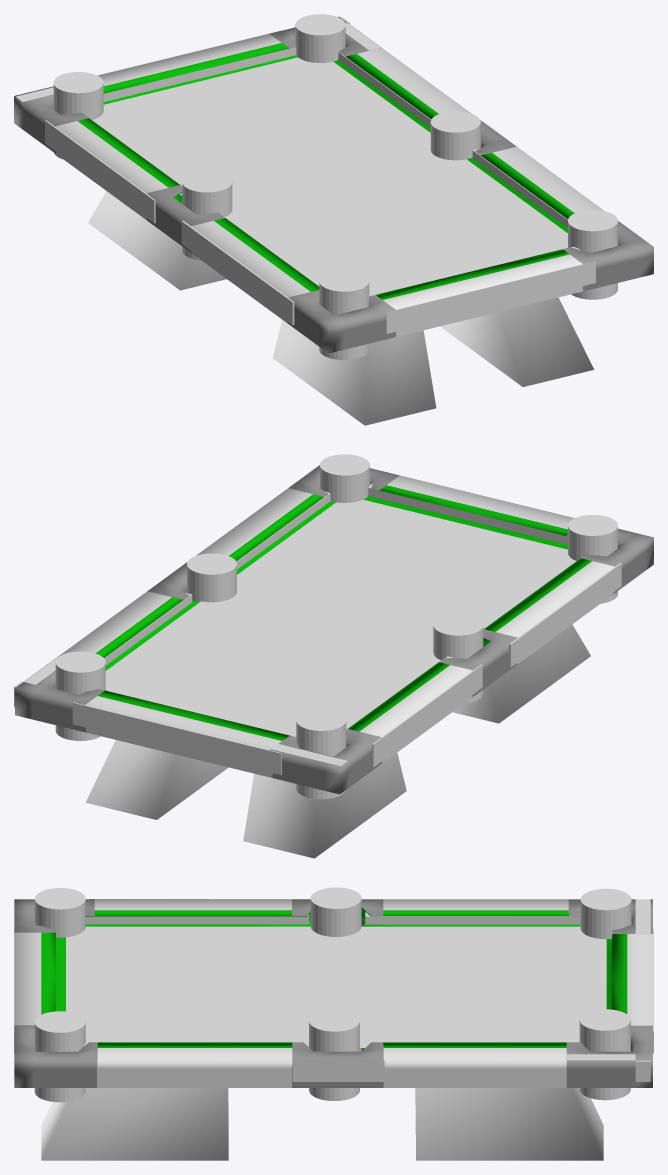
The model's file is BilliardMap.glb.
3 renders of one model, top to bottom at view 1: azimuth 30°, elevation 25°; view 2: azimuth 150°, elevation 25°; view 3: azimuth 270°, elevation 25°, orthographic.
Visible parts, largest first — view 1: main, Plane.001, box5, box3, box4, hole5, hole4, hole1, hole3, hole6, hole2, box6 (+2 smaller); view 2: main, Plane.001, box6, box3, box4, hole2, hole3, hole1, hole4, hole6, hole5, box5 (+3 smaller); view 3: Plane.001, main, hole4, hole1, hole3, hole6, hole2, hole5, box3, box12, box4, box8 (+1 smaller).
Boxes of the visible parts, left/top/right/bottom form: main: left=92, top=57, right=567, bottom=296; Plane.001: left=14, top=16, right=653, bottom=425; box5: left=386, top=246, right=595, bottom=333; box3: left=181, top=220, right=294, bottom=325; box4: left=45, top=120, right=182, bottom=223; hole5: left=319, top=270, right=369, bottom=360; hole4: left=568, top=210, right=617, bottom=299; hole1: left=430, top=111, right=480, bottom=160; hole3: left=295, top=14, right=345, bottom=62; hole6: left=182, top=171, right=232, bottom=260; hole2: left=53, top=72, right=103, bottom=159; box6: left=97, top=30, right=296, bottom=101; main: left=105, top=499, right=576, bottom=736; Plane.001: left=15, top=465, right=653, bottom=858; box6: left=72, top=702, right=281, bottom=775; box3: left=509, top=563, right=621, bottom=667; box4: left=346, top=656, right=482, bottom=767; hole2: left=296, top=709, right=346, bottom=799; hole3: left=55, top=651, right=105, bottom=740; hole1: left=187, top=553, right=236, bottom=602; hole4: left=320, top=454, right=369, bottom=502; hole6: left=433, top=614, right=483, bottom=703; hole5: left=568, top=515, right=617, bottom=603; box5: left=368, top=483, right=567, bottom=544; Plane.001: left=14, top=899, right=652, bottom=1160; main: left=66, top=926, right=606, bottom=1051; hole4: left=34, top=1011, right=85, bottom=1102; hole1: left=309, top=1010, right=359, bottom=1100; hole3: left=579, top=1009, right=630, bottom=1100; hole6: left=310, top=887, right=361, bottom=936; hole2: left=580, top=888, right=631, bottom=939; hole5: left=34, top=888, right=85, bottom=937; box3: left=85, top=899, right=308, bottom=924; box12: left=292, top=1060, right=384, bottom=1081; box4: left=365, top=912, right=580, bottom=924; box8: left=635, top=899, right=650, bottom=934.
Size of the model in its own units: 14.81 by 6.07 by 24.55.
